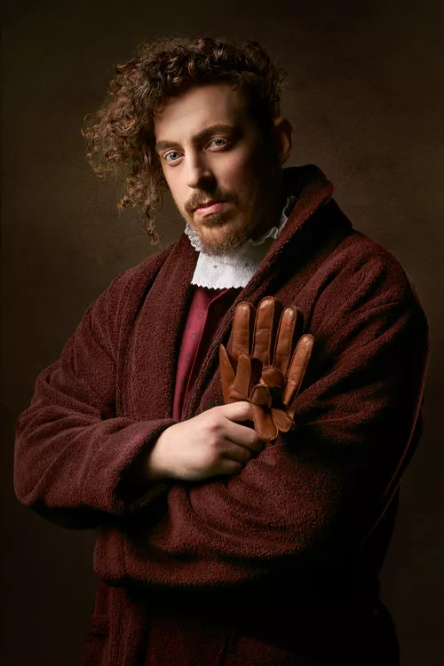face: (153, 88, 264, 247)
